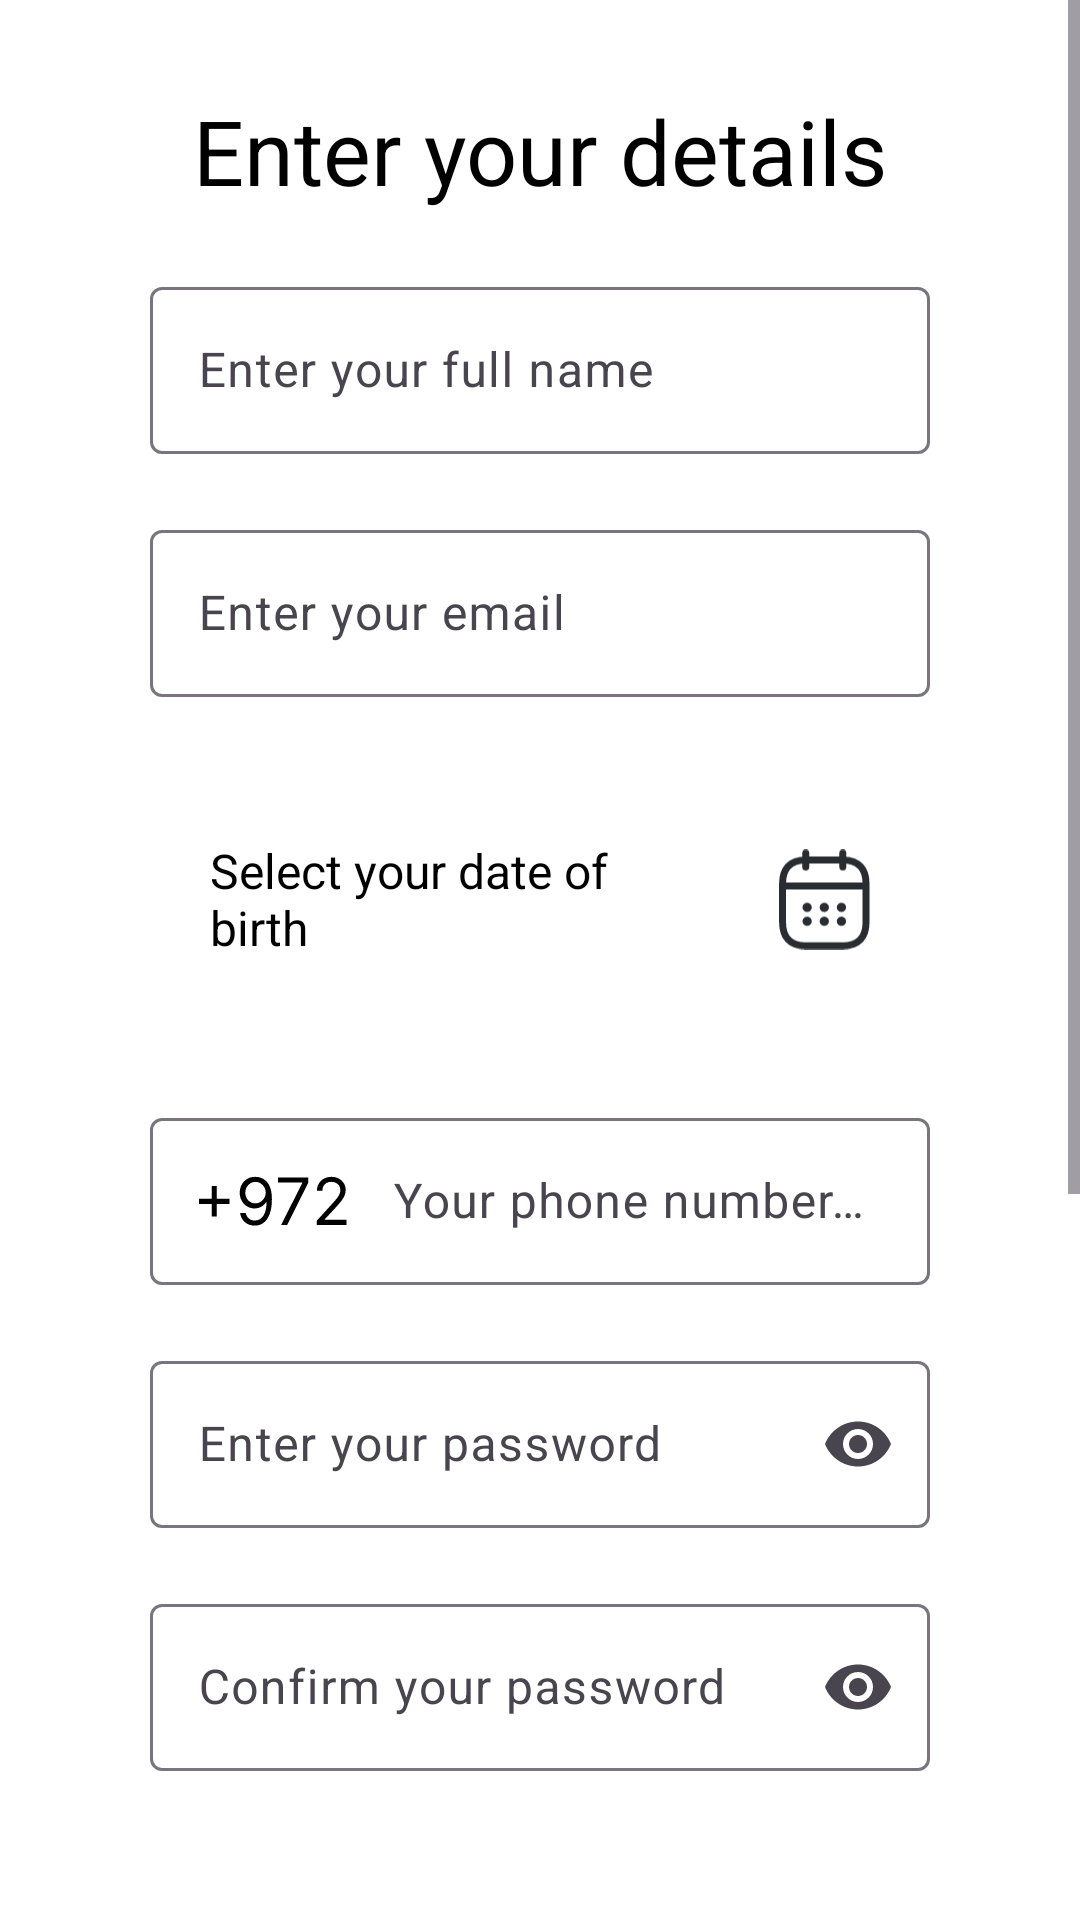

Icons on this 1080x1920 Android screen, each with its box as {"left": x1, "top": y1, "right": x2, "bottom": y2}:
calendar: {"left": 779, "top": 849, "right": 870, "bottom": 950}
